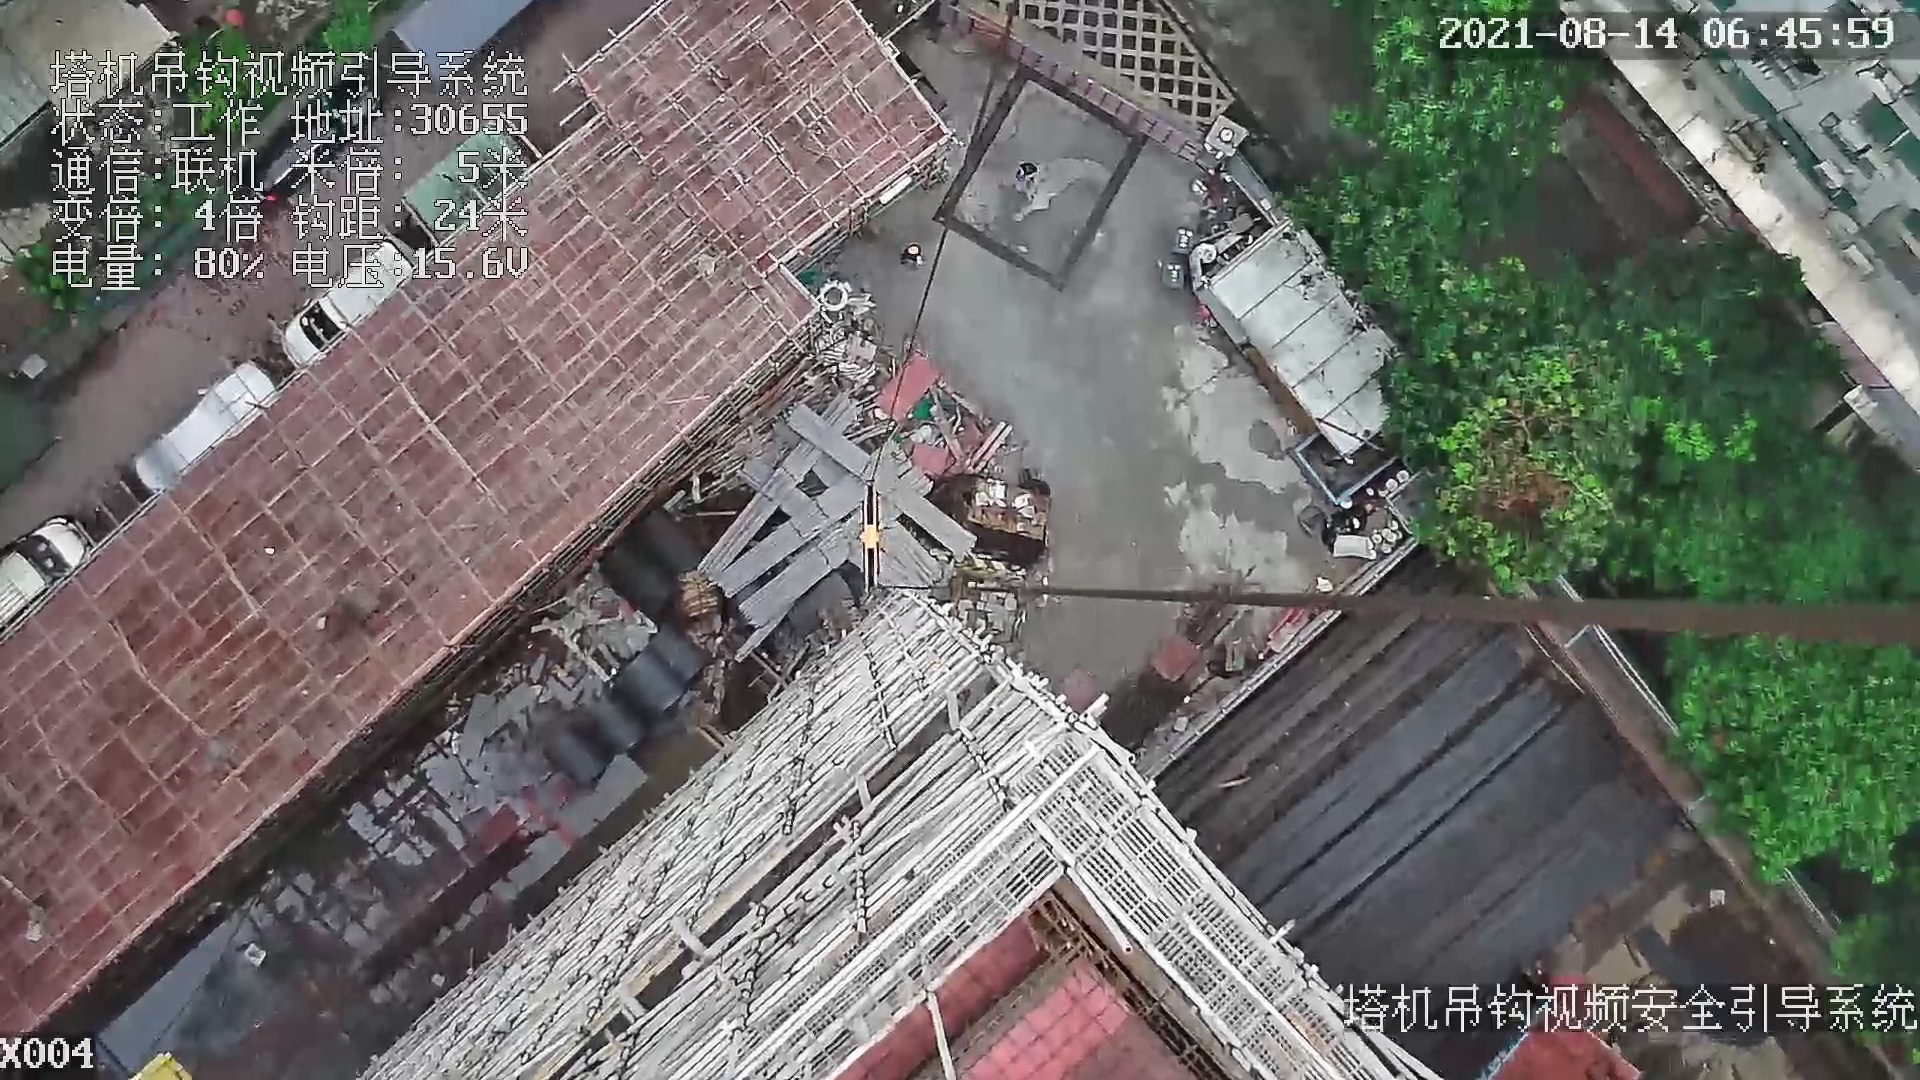helmet: (907, 245, 919, 255)
hook: (853, 481, 886, 596)
person: (896, 239, 928, 279), (1014, 160, 1036, 191)
